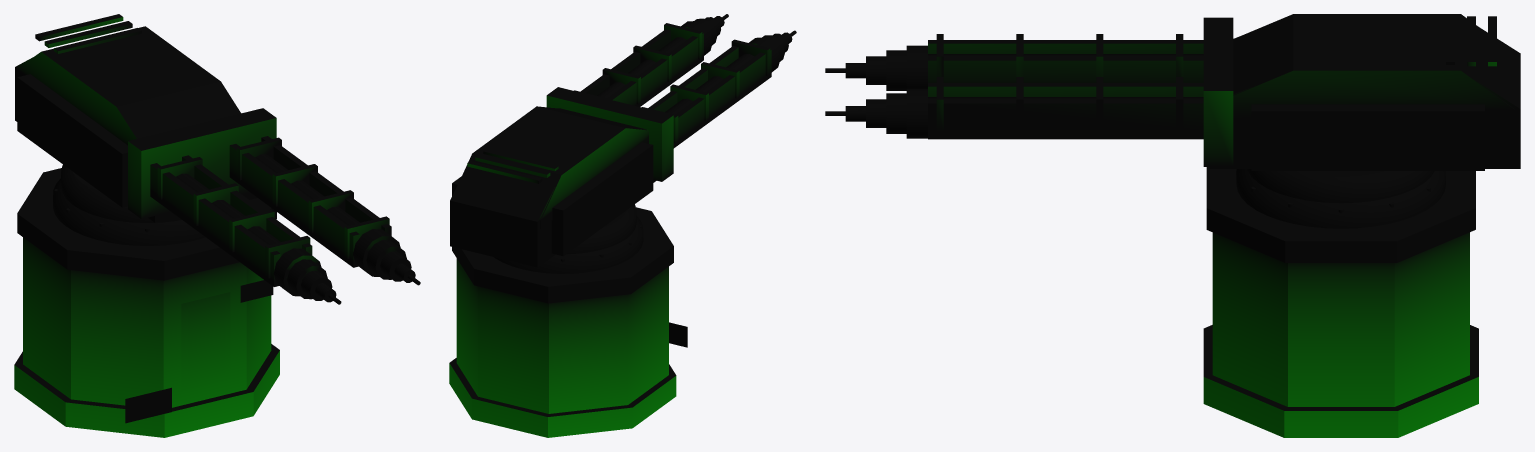
File: pulselaserturret.glb
The picture shows the model from 3 angles, left to right: view 1: azimuth 30°, elevation 25°; view 2: azimuth 150°, elevation 25°; view 3: azimuth 270°, elevation 25°; orthographic projection. The views are drawn at different scales.
Parts seen in each view (by area): view 1: lod0_Base, lod0_Gun, lod0_Turret; view 2: lod0_Base, lod0_Turret, lod0_Gun; view 3: lod0_Base, lod0_Turret, lod0_Gun, lod1_Turret.
Boxes of the visible parts, x1,y1,x2,y2 form: lod0_Base: (14,168,279,437); lod0_Gun: (128,108,420,304); lod0_Turret: (15,14,257,222); lod0_Base: (449,207,687,437); lod0_Turret: (450,106,656,267); lod0_Gun: (546,14,796,181); lod0_Base: (1203,167,1478,437); lod0_Turret: (1209,14,1520,203); lod0_Gun: (825,17,1233,166); lod1_Turret: (1252,171,1429,200).
Size of the model in its own units: 4.6 by 6.28 by 11.62.
